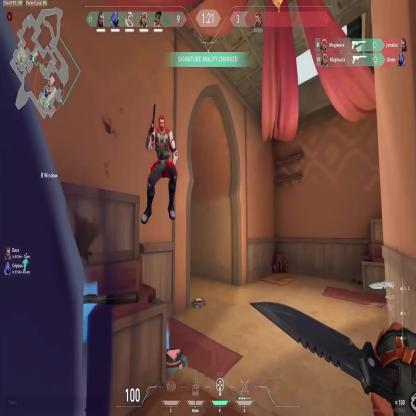enemy: (142, 113, 178, 224)
enemy_head: (158, 116, 167, 136)
